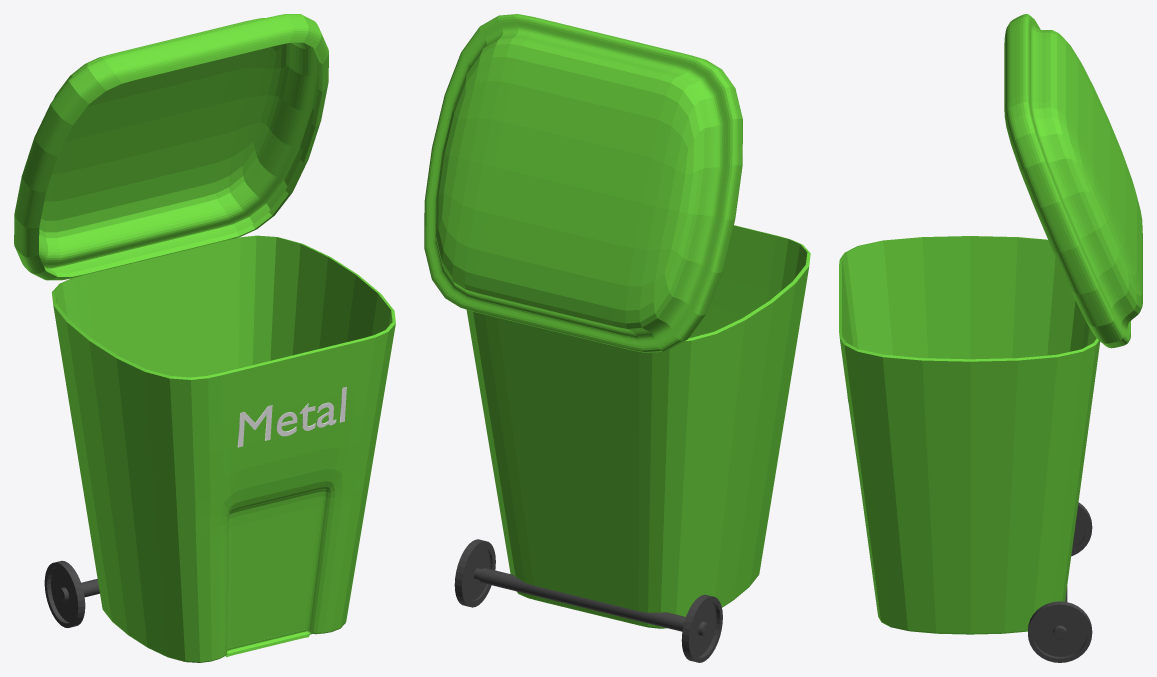
Rendered from Recycling_Metal_Bin.fbx.
3 views of the same model, side by side, from view 1: azimuth 30°, elevation 25°; view 2: azimuth 150°, elevation 25°; view 3: azimuth 270°, elevation 25° (orthographic). The views are drawn at different scales.
Parts seen in each view (by area): view 1: Cube, Cube.001, Cylinder.001, Text; view 2: Cube.001, Cube, Cylinder.001, Cylinder; view 3: Cube, Cube.001, Cylinder.001.
Part boxes in pixels (left/top/right/bottom): Cube: left=52, top=235, right=395, bottom=662; Cube.001: left=14, top=14, right=328, bottom=280; Cylinder.001: left=44, top=560, right=85, bottom=627; Text: left=237, top=387, right=346, bottom=447; Cube.001: left=424, top=14, right=742, bottom=352; Cube: left=466, top=225, right=810, bottom=628; Cylinder.001: left=454, top=539, right=722, bottom=662; Cylinder: left=479, top=568, right=685, bottom=631; Cube: left=839, top=236, right=1100, bottom=634; Cube.001: left=1004, top=14, right=1142, bottom=348; Cylinder.001: left=1028, top=502, right=1092, bottom=662.
Bounding box in the file's own units: 184 × 345 × 173.
